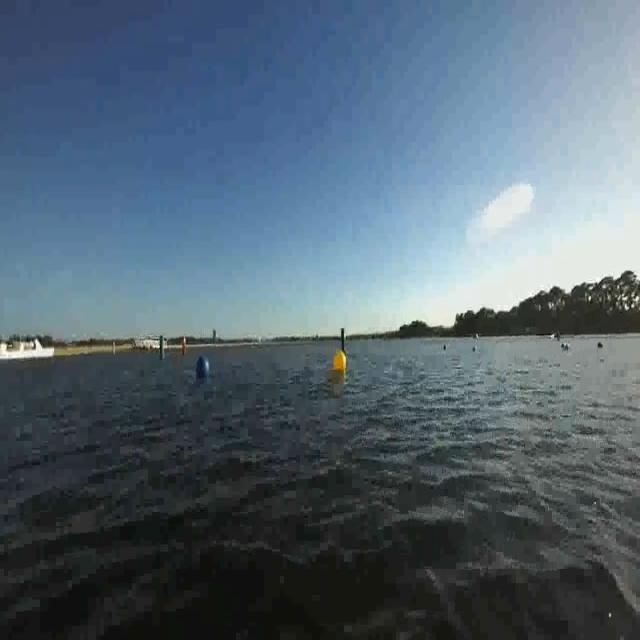blue-buoy: (195, 352, 211, 379)
yellow-buoy: (334, 350, 348, 372)
